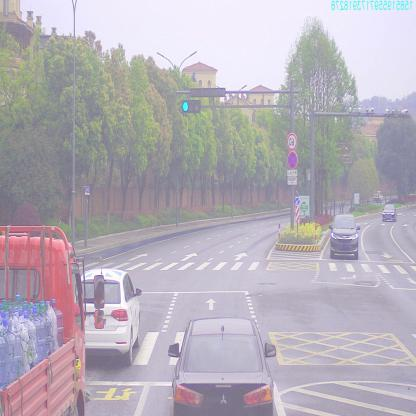traffic-light: (184, 100, 200, 112)
